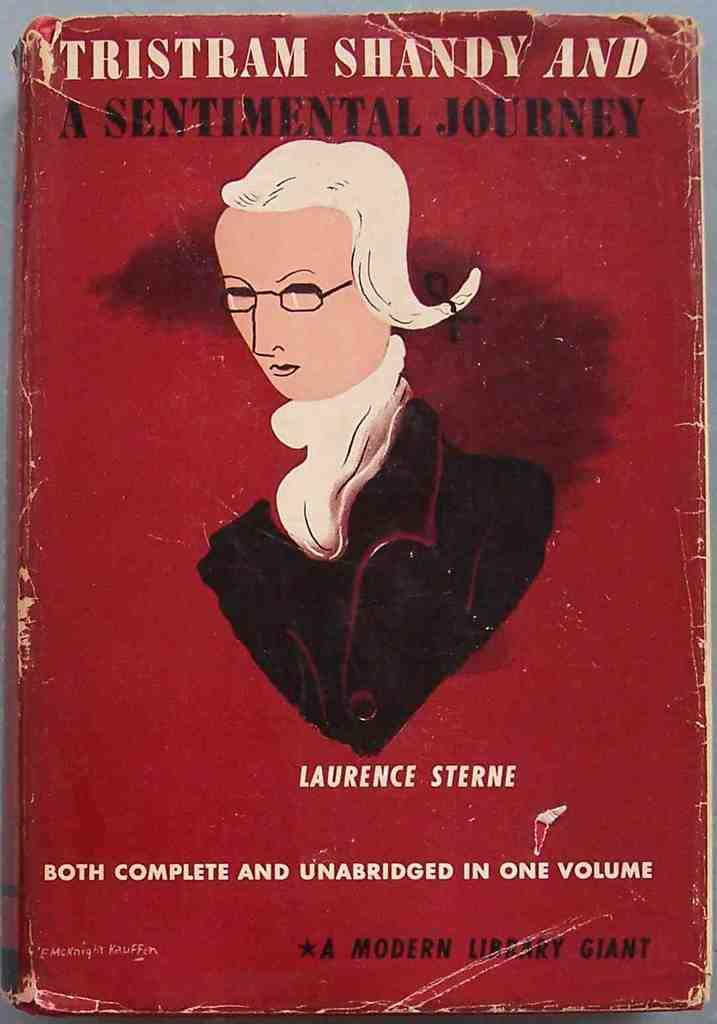book: (11, 19, 716, 1023)
